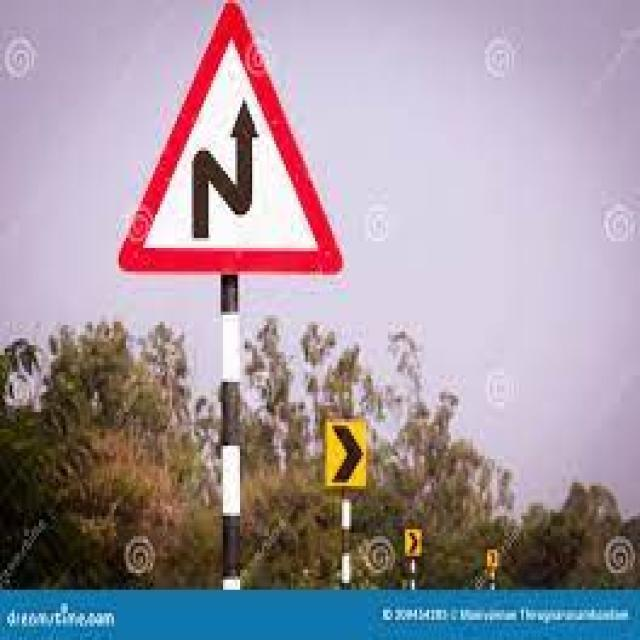right reverse bend: (115, 10, 346, 283)
